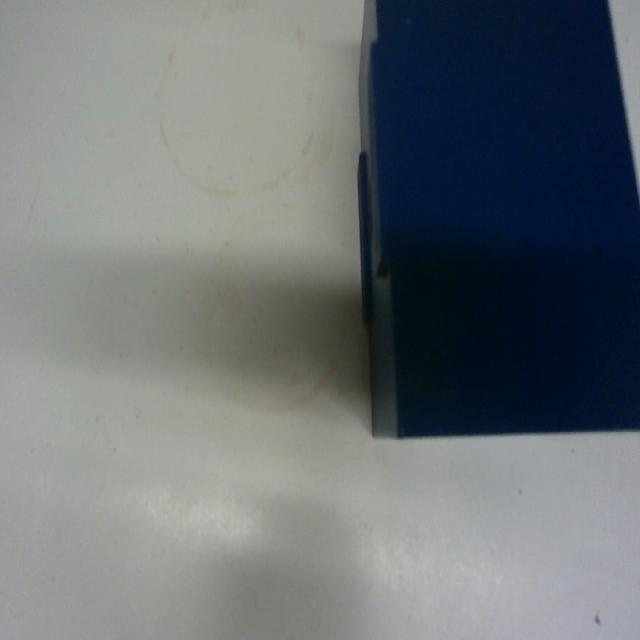Blue Cuboid: (354, 0, 639, 440)
